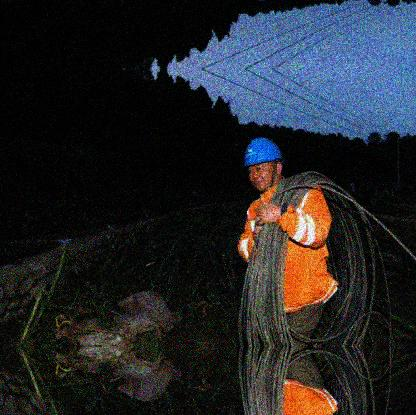helmet: (240, 136, 285, 191)
